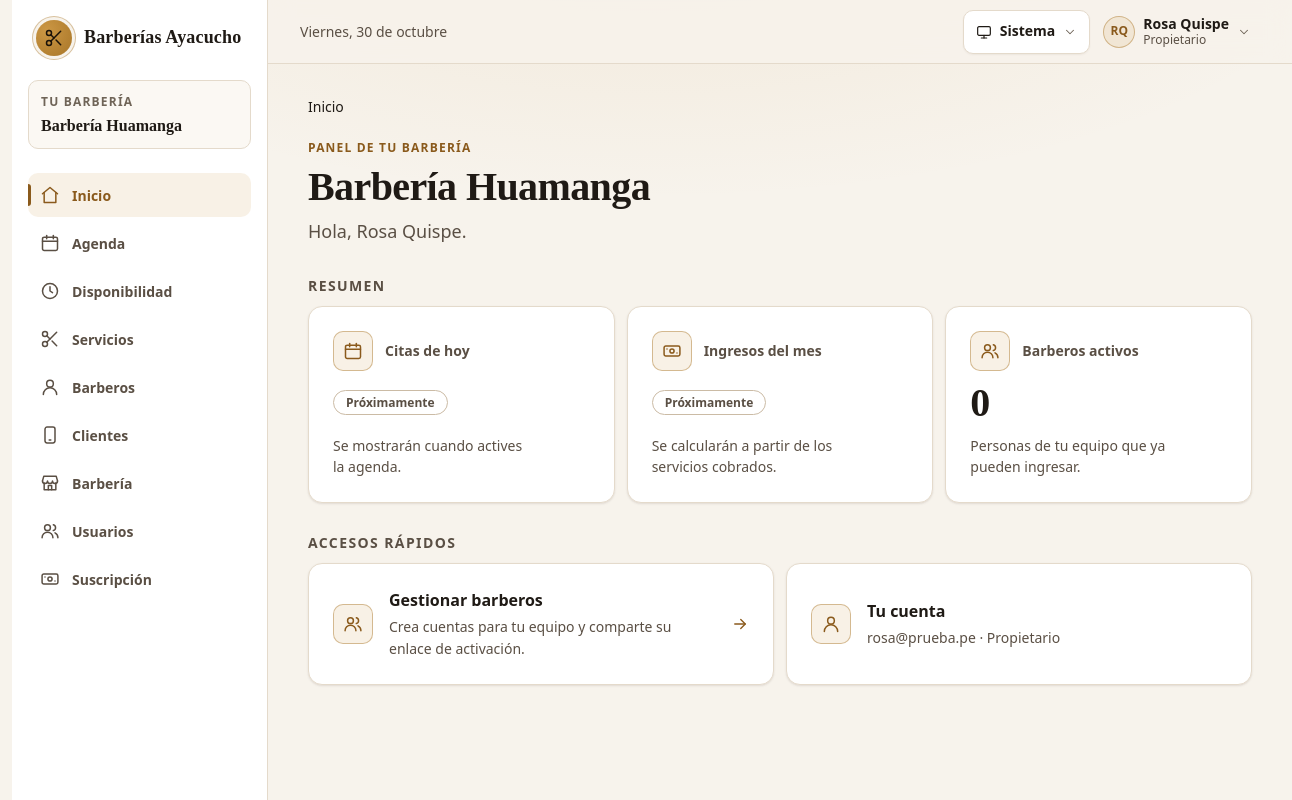
Test: Sesión en la interfaz › cerrar sesión limpia el estado y lleva a /ingresar
Note: Cerrar sesión está en el menú de usuario de la cabecera.
Click the button "Rosa Quispe".
click(1179, 32)  # box x1=1098 y1=10 x2=1260 y2=54
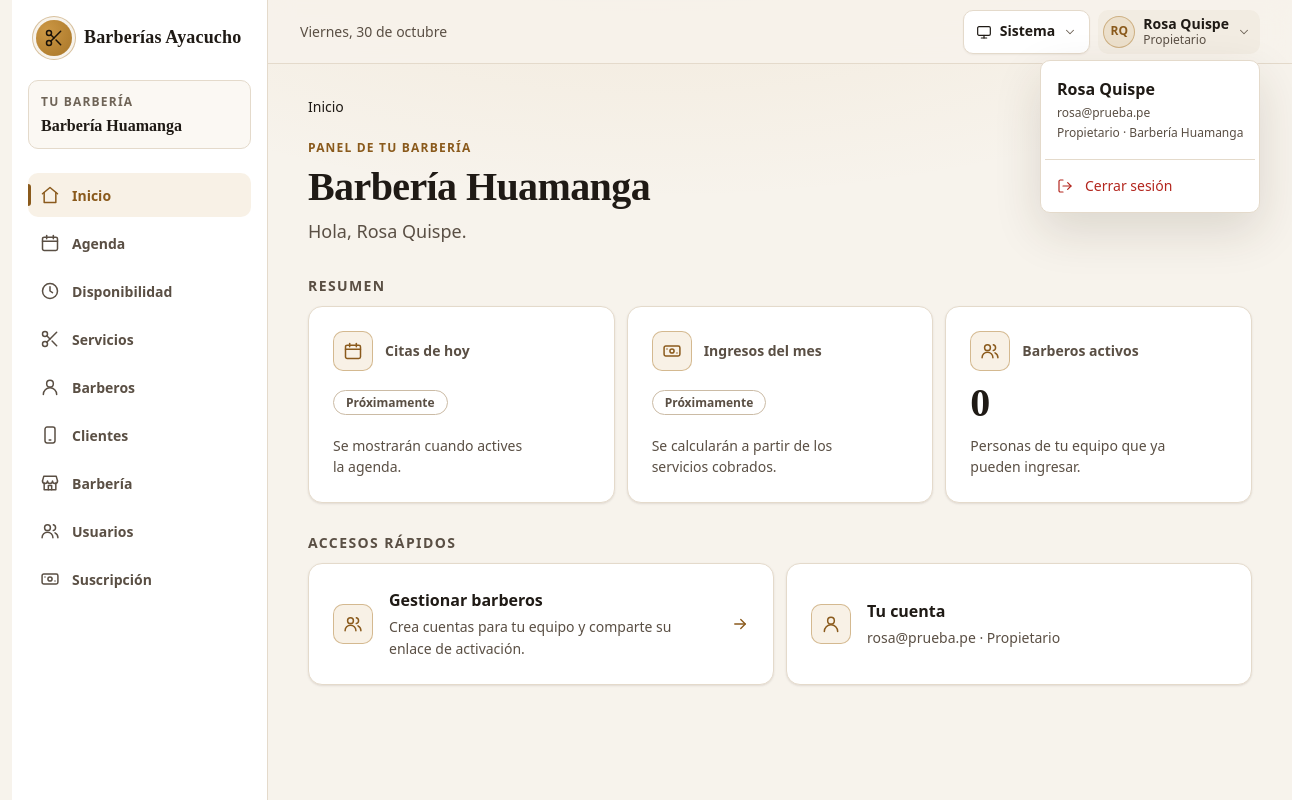
Click the menu item "Cerrar sesión".
click(1115, 186)  # box x1=1057 y1=176 x2=1172 y2=195
(page scrolled)
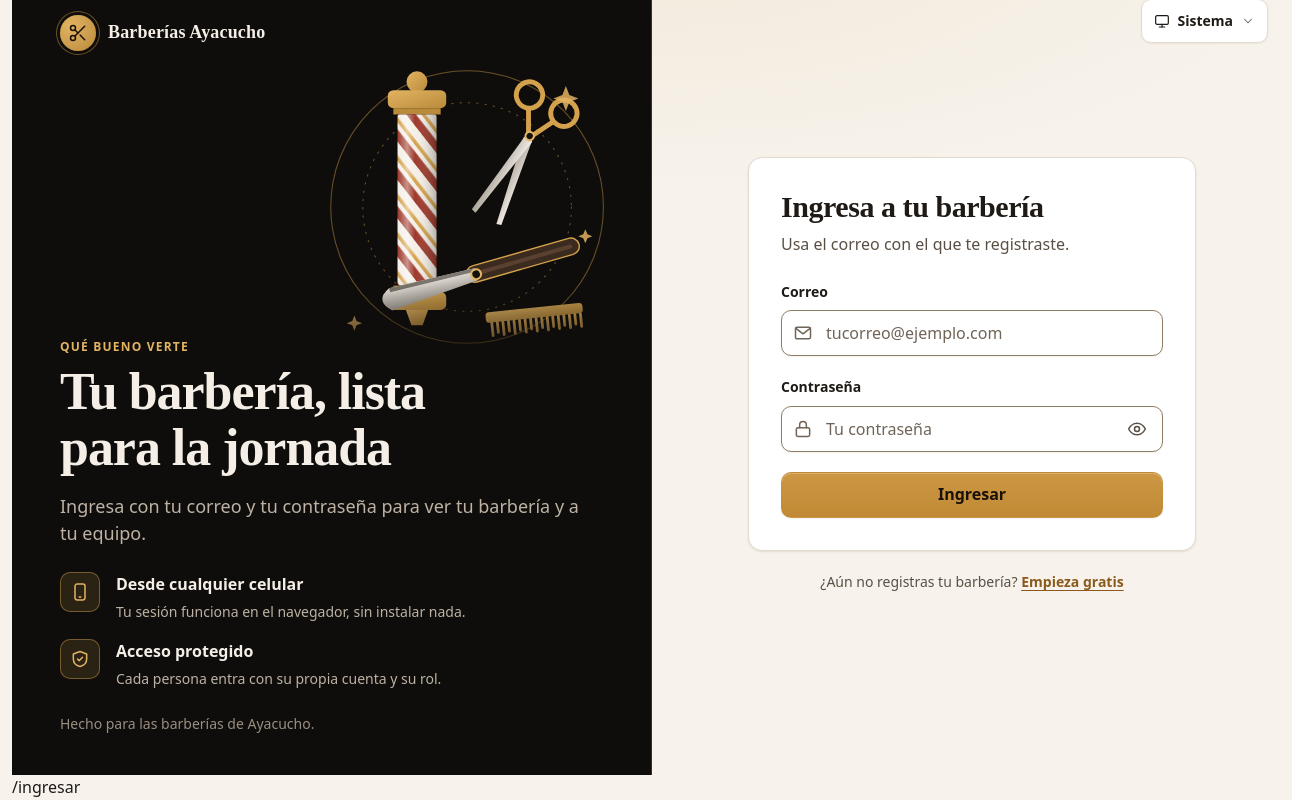
Expected: the heading "Ingresa a tu barbería" is shown, x1=781 y1=190 x2=1044 y2=223
Expected: the text with test id "ruta" reads "/ingresar", x1=12 y1=776 x2=80 y2=798
